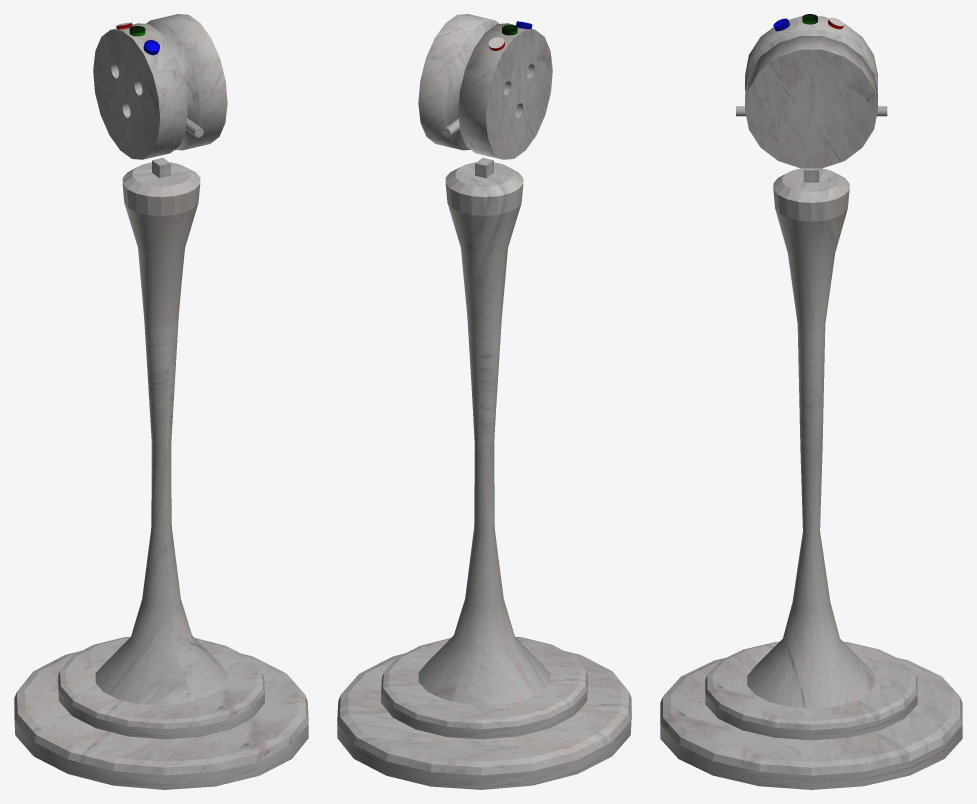
Rendered from PortaLaser.FBX.
3 views of the same model, side by side, from view 1: azimuth 30°, elevation 25°; view 2: azimuth 150°, elevation 25°; view 3: azimuth 270°, elevation 25° (orthographic).
Visible parts, largest first — view 1: Cylinder001, Cylinder003, Coso donde van los lasers, Base que gira; view 2: Cylinder001, Cylinder003, Coso donde van los lasers, Base que gira; view 3: Cylinder001, Cylinder003, Coso donde van los lasers, Base que gira.
Boxes of the visible parts, box(x1,y1,x2,y2) form: Cylinder001: box(95, 162, 227, 705); Cylinder003: box(14, 651, 308, 789); Coso donde van los lasers: box(93, 14, 227, 159); Base que gira: box(58, 636, 264, 739); Cylinder001: box(418, 162, 550, 705); Cylinder003: box(337, 651, 631, 789); Coso donde van los lasers: box(418, 14, 552, 159); Base que gira: box(381, 636, 587, 739); Cylinder001: box(747, 168, 875, 708); Cylinder003: box(660, 658, 962, 789); Coso donde van los lasers: box(745, 16, 877, 168); Base que gira: box(705, 641, 917, 740).
Size of the model in its own units: 18.78 by 49.42 by 19.38.
